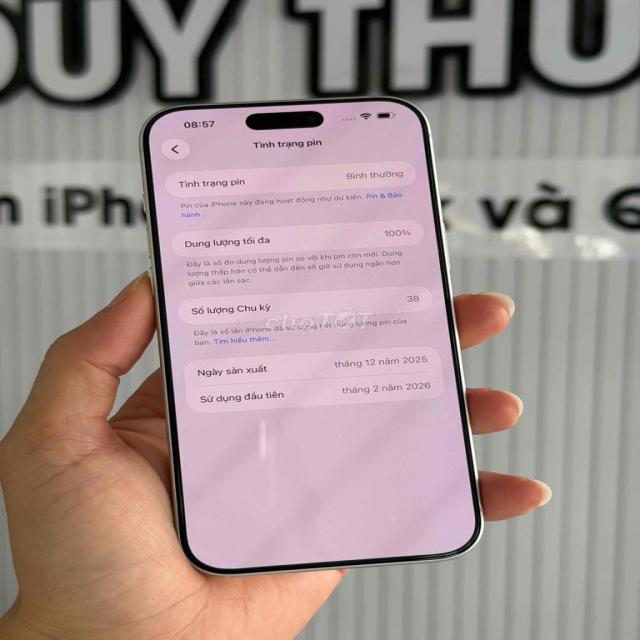gen_17: (112, 95, 510, 582)
